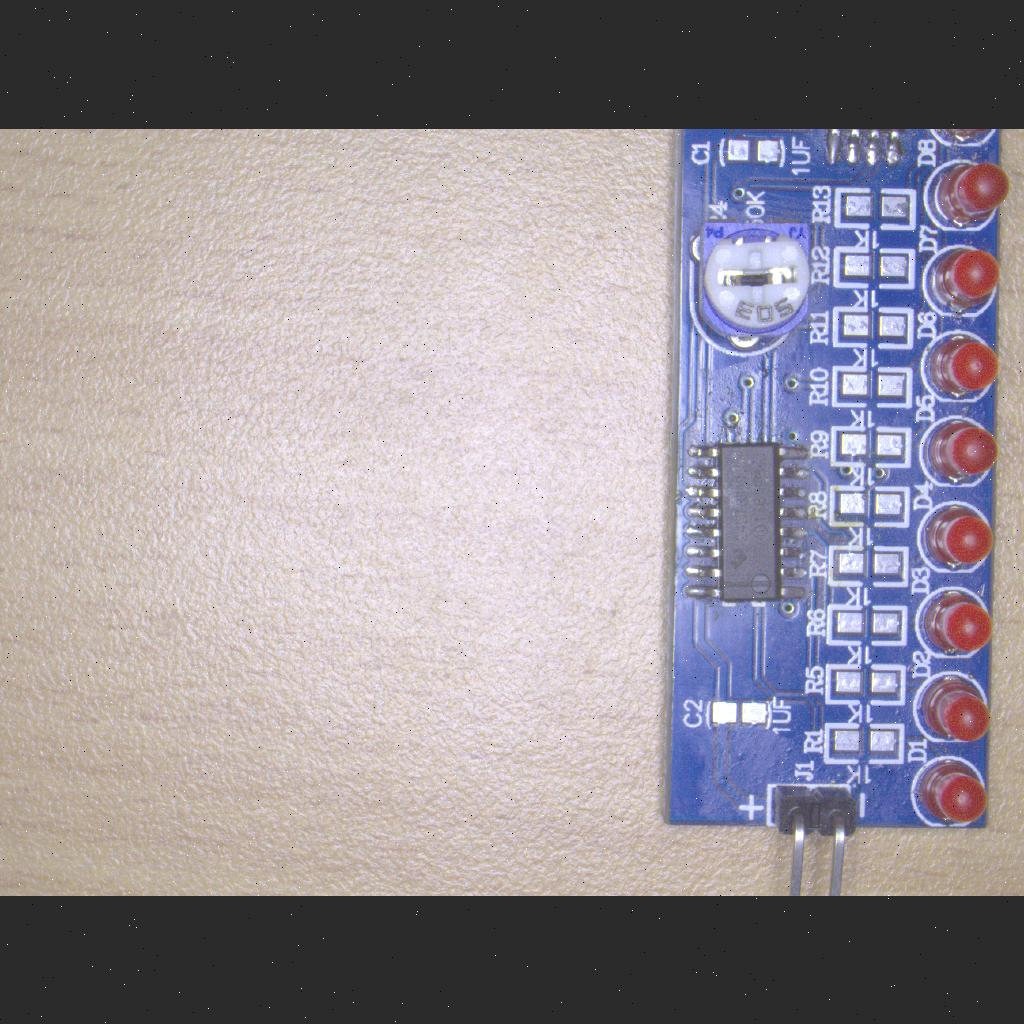NG: (828, 419, 916, 473), (827, 479, 913, 533), (831, 242, 921, 292), (824, 541, 914, 591), (834, 182, 920, 234), (829, 360, 915, 412), (825, 598, 911, 650), (822, 658, 910, 708), (830, 303, 916, 353), (820, 720, 910, 766), (716, 132, 788, 172)
OK: (680, 436, 820, 612)
